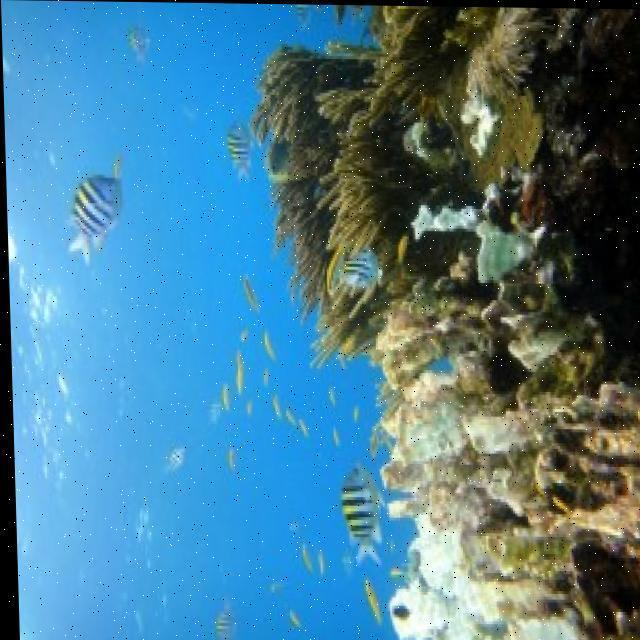Bleached Coral: (362, 388, 538, 640), (384, 159, 551, 302)
